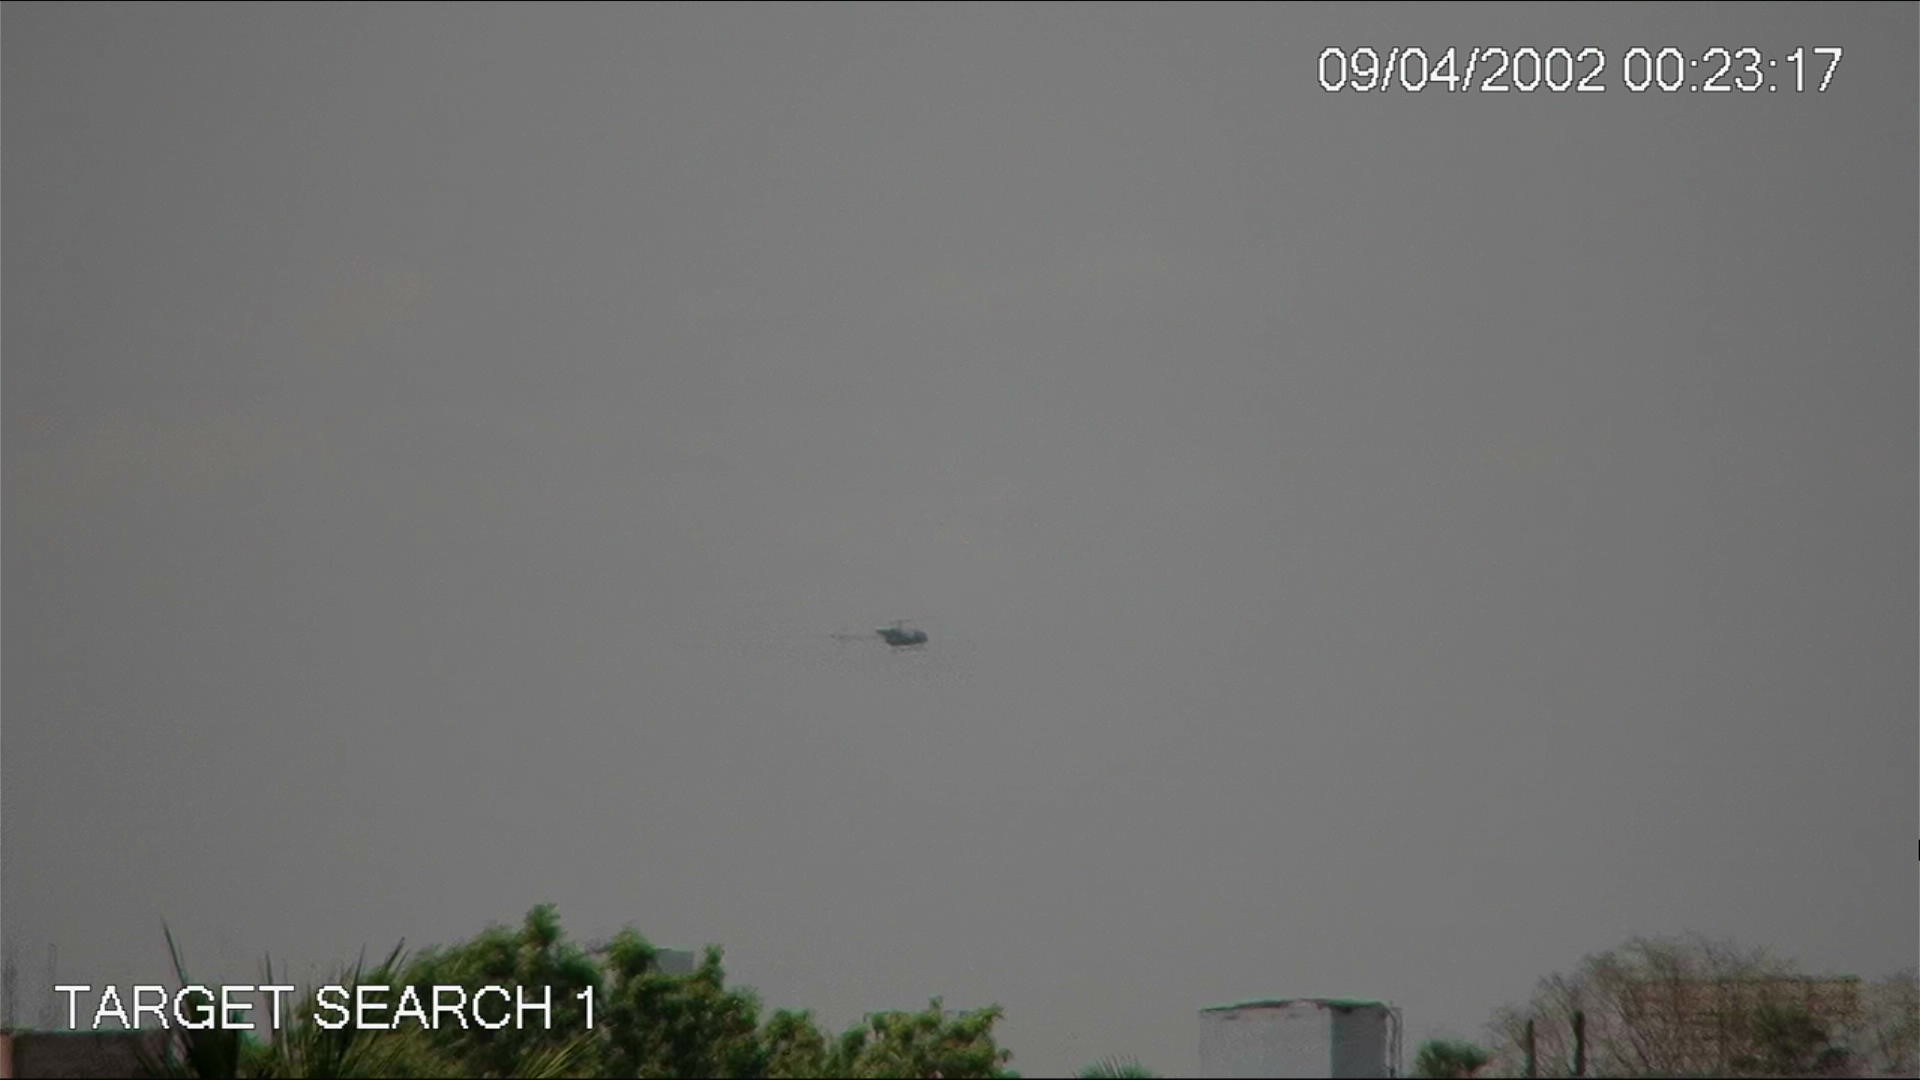SU_30: (812, 612, 935, 659)
